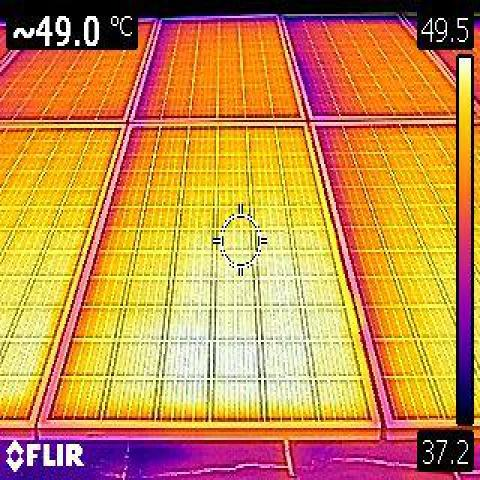fault: (178, 287, 327, 385)
